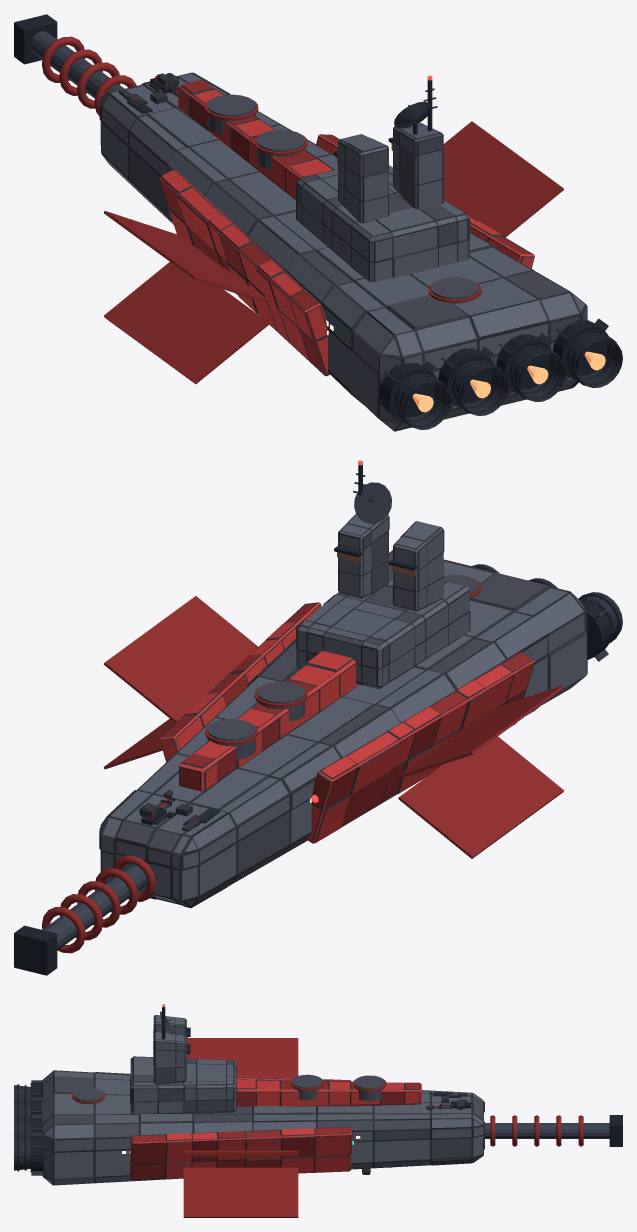
File: dominator.glb
3 views of the same model, one above another, from view 1: azimuth 30°, elevation 25°; view 2: azimuth 150°, elevation 25°; view 3: azimuth 270°, elevation 25° (orthographic). The views are drawn at different scales.
Parts seen in each view (by area): view 1: dominator_mesh, radar_mesh; view 2: dominator_mesh, radar_mesh; view 3: dominator_mesh.
Boxes of the visible parts, bbox=[...] form: dominator_mesh: bbox=[14, 14, 622, 431]; radar_mesh: bbox=[394, 101, 430, 134]; dominator_mesh: bbox=[14, 464, 622, 975]; radar_mesh: bbox=[354, 482, 391, 523]; dominator_mesh: bbox=[14, 1007, 622, 1217].
Bounding box in the file's own units: 15.81 × 10.95 × 35.85.
